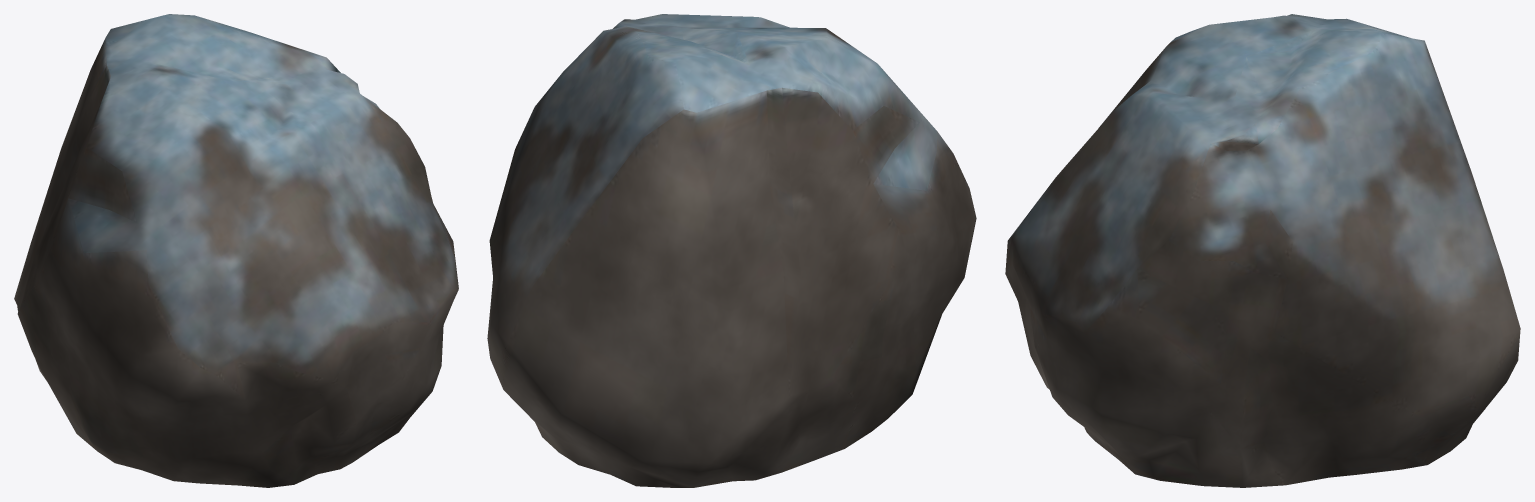
Rendered from SM_Boulder_2.glb.
3 views of the same model, side by side, from view 1: azimuth 30°, elevation 25°; view 2: azimuth 150°, elevation 25°; view 3: azimuth 270°, elevation 25° (orthographic). The views are drawn at different scales.
Visible parts, largest first — view 1: SM_Boulder_2; view 2: SM_Boulder_2; view 3: SM_Boulder_2.
Boxes of the visible parts, x1,y1,x2,y2 form: SM_Boulder_2: (14,14,458,487); SM_Boulder_2: (487,14,976,487); SM_Boulder_2: (1005,14,1520,487).
Bounding box in the file's own units: 1.28 × 1.27 × 1.56.
Materials: 1 (1 with a texture image).
